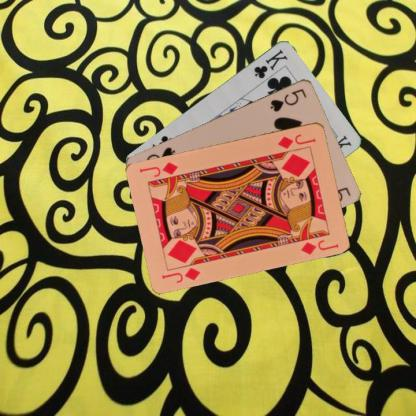5s: (267, 86, 308, 112)
Jd: (275, 131, 317, 150), (160, 265, 202, 284)
Kc: (251, 46, 289, 80)
